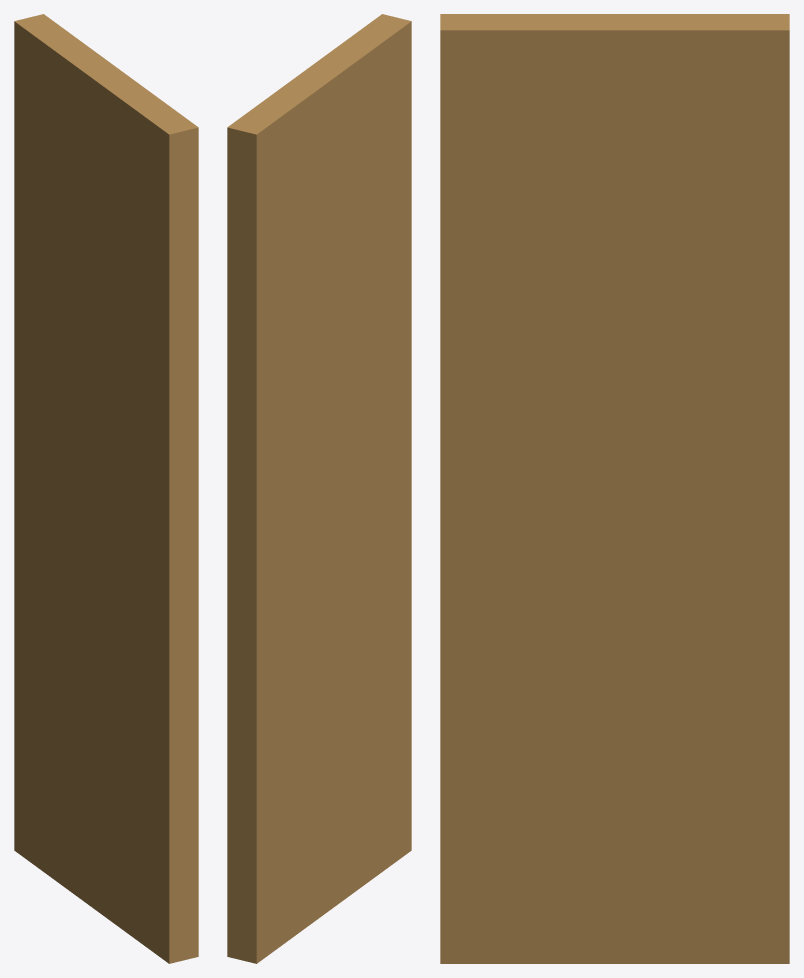
3 renders of one model, left to right at view 1: azimuth 30°, elevation 25°; view 2: azimuth 150°, elevation 25°; view 3: azimuth 270°, elevation 25°, orthographic. The views are drawn at different scales.
Visible parts, largest first — view 1: FF-W165; view 2: FF-W165; view 3: FF-W165.
Part boxes in pixels (bbox=[...]): FF-W165: bbox=[14, 14, 198, 963]; FF-W165: bbox=[227, 14, 411, 963]; FF-W165: bbox=[440, 14, 789, 963].
Bounding box in the file's own units: 0.09 × 2.42 × 0.82.
